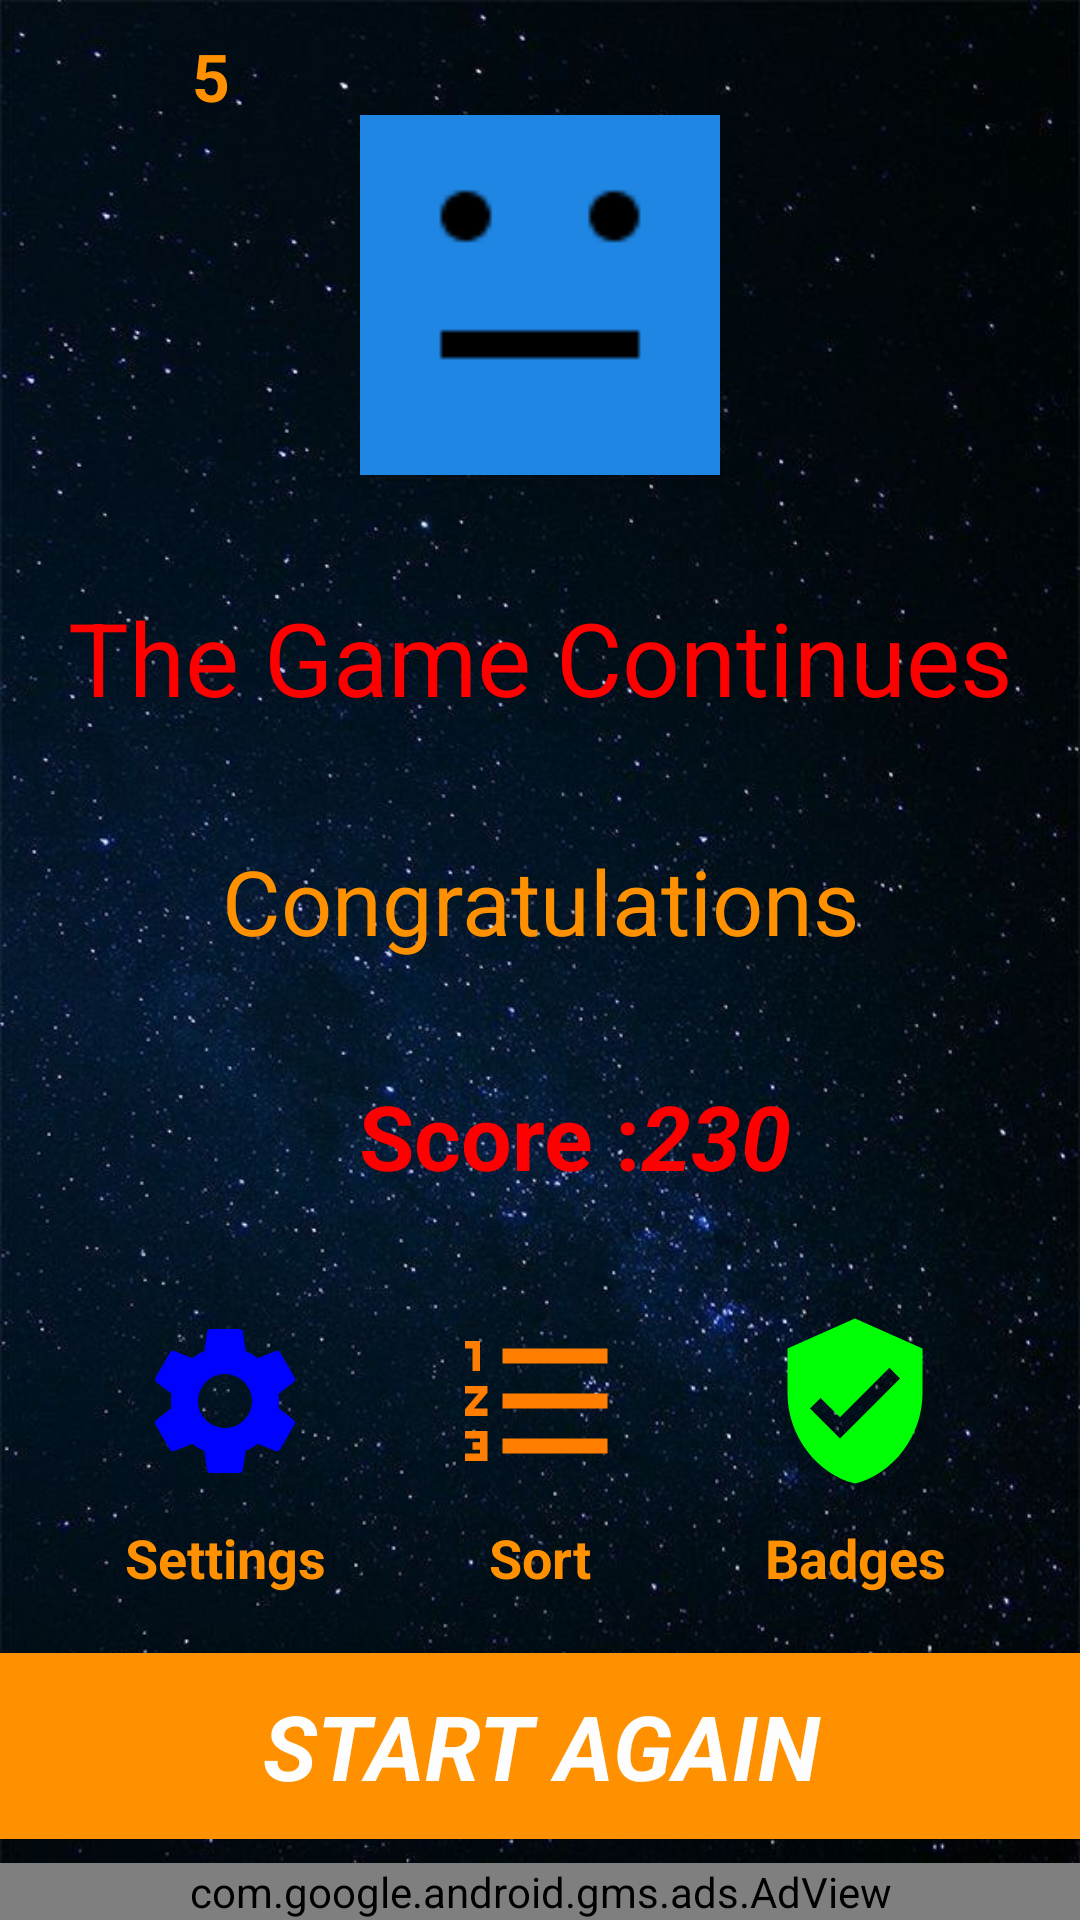

Where to tap for icons on this 1080px×1920px app screen, as [x,y]:
format list numbered: [541,1401]
verified user: [847,1401]
